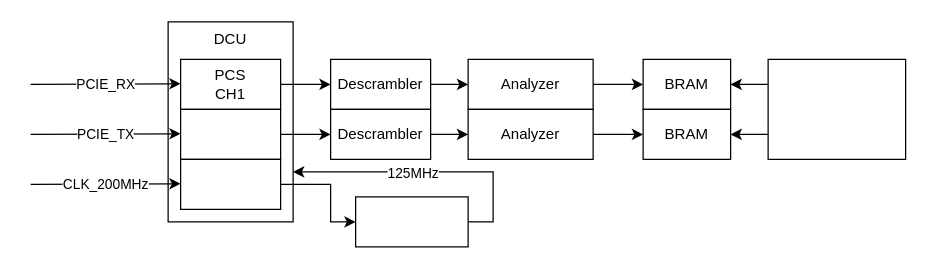
Image size: 928x269. Some labels were removed from this diagram. The centre of each missing label's shape, as x and y in pixels:
Extref: (x=230, y=183)
PCS CH2: (x=230, y=133)
pll: (x=411, y=221)
Reveal Analyzer: (x=836, y=108)
